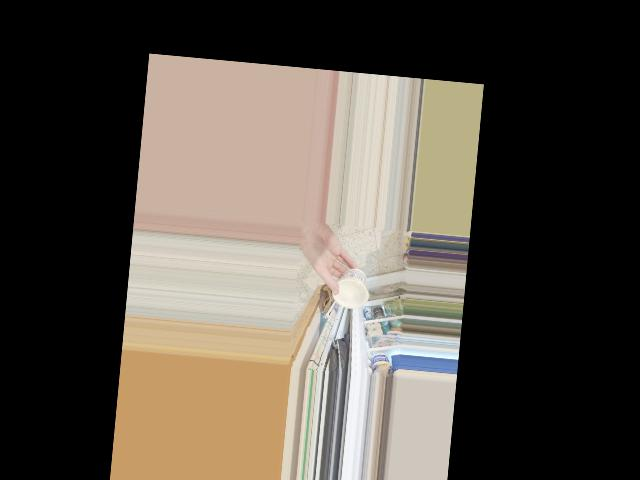cotage: (335, 267, 370, 308)
